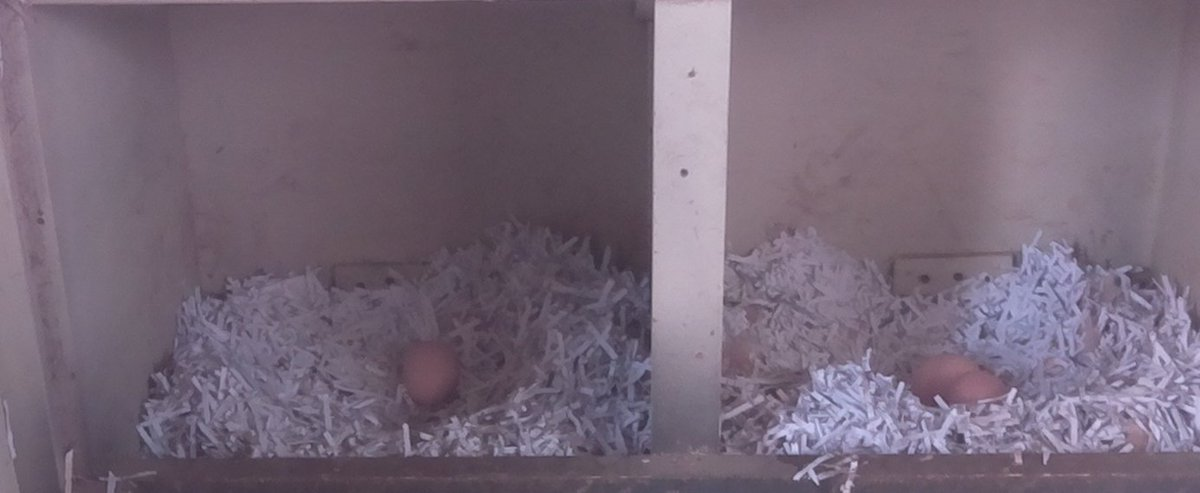egg: (398, 338, 460, 410), (908, 350, 980, 398), (942, 370, 1012, 404)
